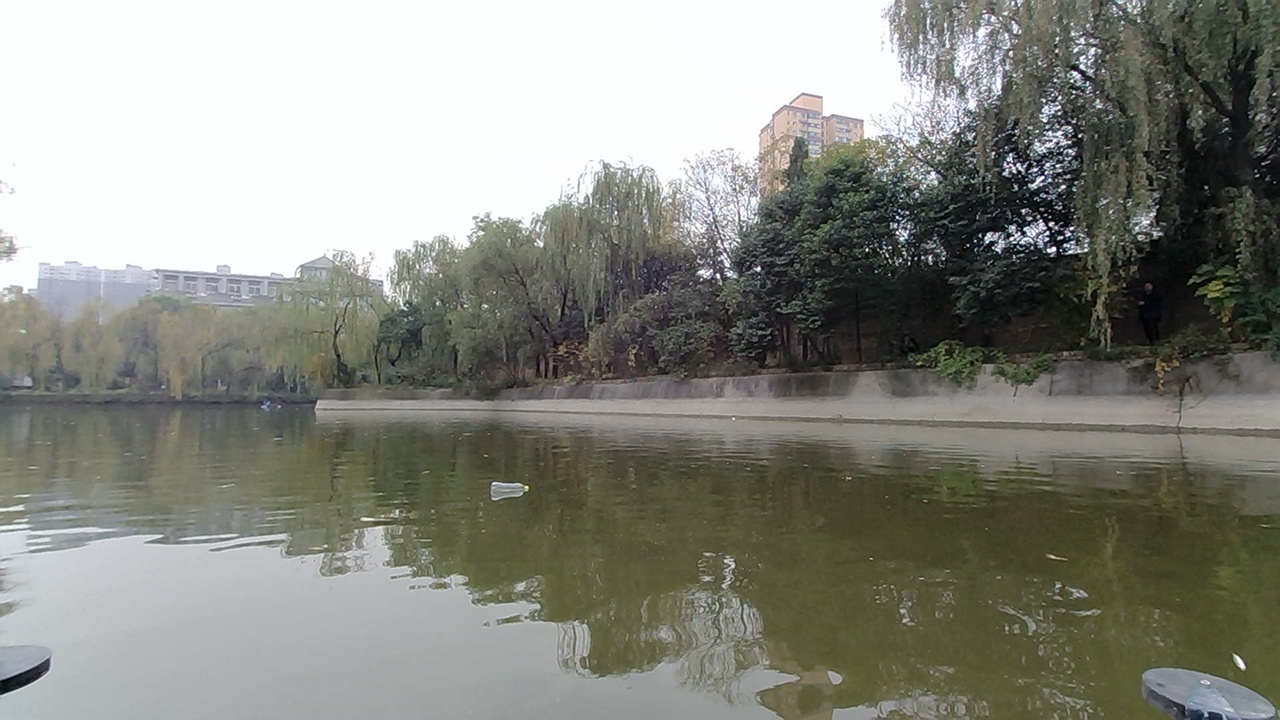bottle: (481, 464, 542, 507)
